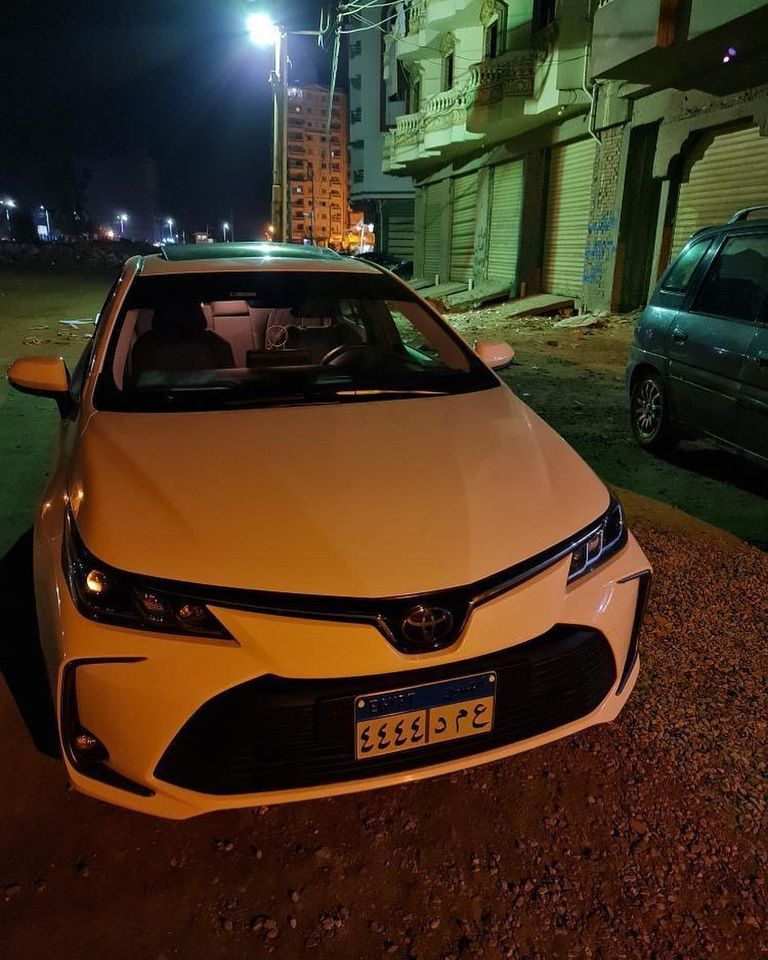carpl: (340, 678, 513, 760)
